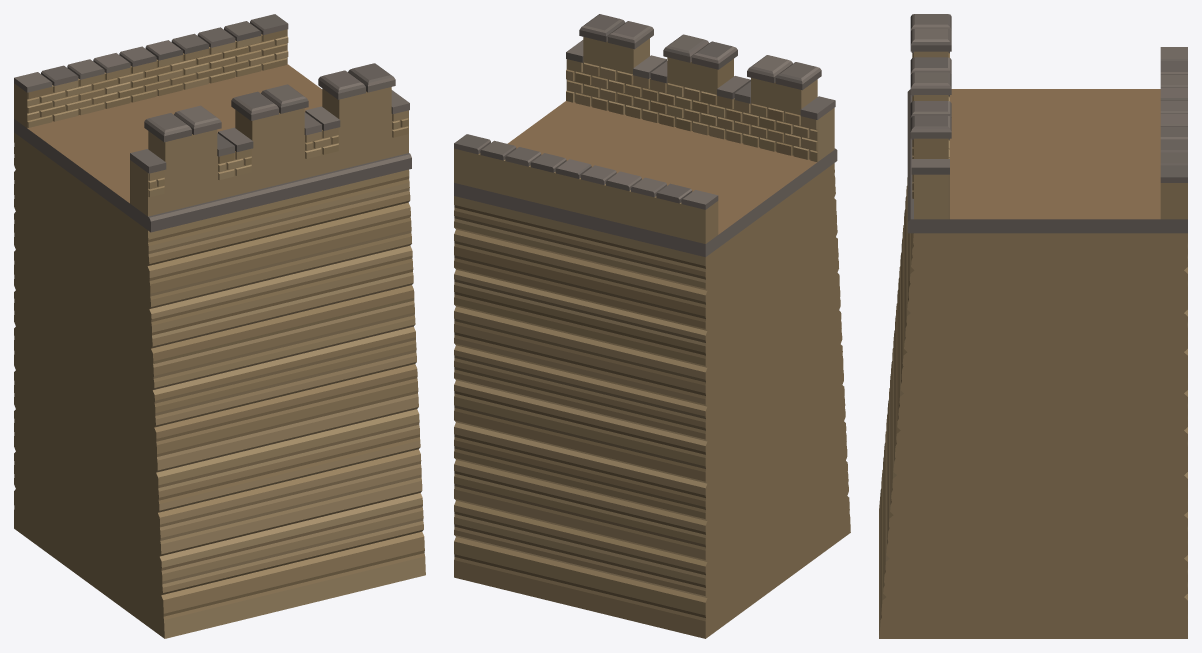
The model's file is city-wall-run-1f4c31.glb.
3 renders of one model, left to right at view 1: azimuth 30°, elevation 25°; view 2: azimuth 150°, elevation 25°; view 3: azimuth 270°, elevation 25°, orthographic. The views are drawn at different scales.
Visible parts, largest first — view 1: wall-body; view 2: wall-body; view 3: wall-body.
Boxes of the visible parts, bbox=[...] form: wall-body: bbox=[14, 14, 425, 638]; wall-body: bbox=[454, 14, 850, 638]; wall-body: bbox=[879, 14, 1187, 638].
Size of the model in its own units: 4 by 7.2 by 4.
